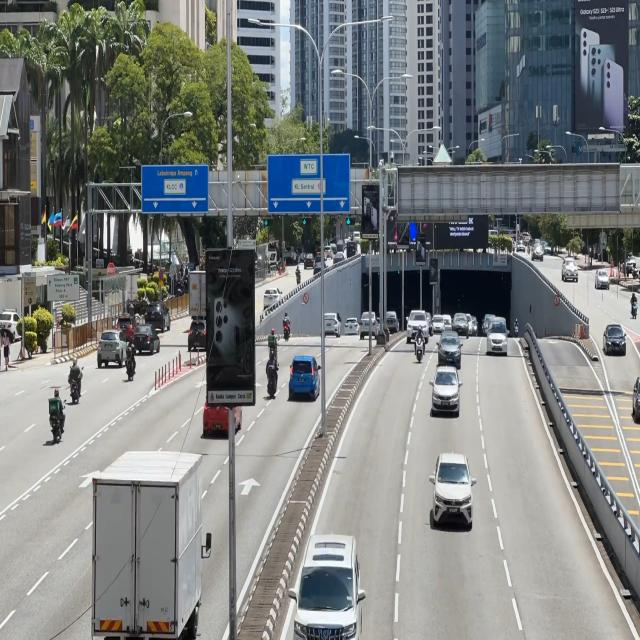Car: (94, 447, 213, 640), (293, 530, 365, 640), (434, 449, 476, 532), (432, 364, 462, 419), (289, 355, 322, 400), (96, 330, 127, 373), (600, 320, 630, 361), (438, 329, 464, 366), (132, 323, 160, 357), (486, 318, 510, 357), (405, 307, 429, 344), (321, 309, 343, 343)
